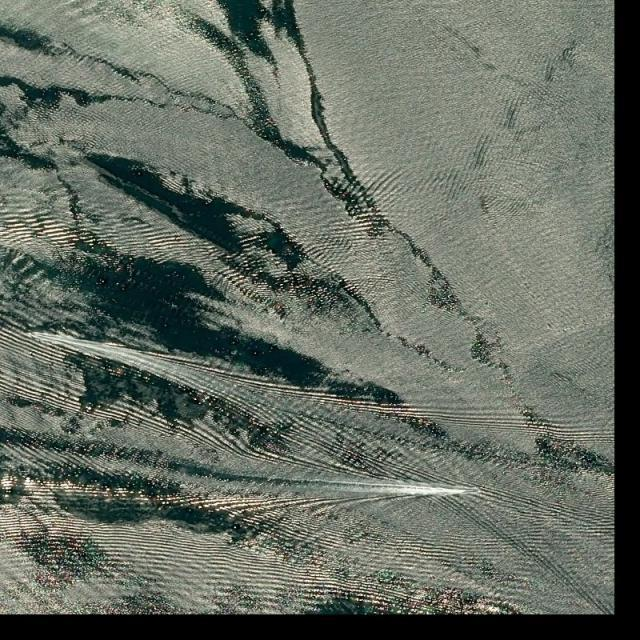ship: (26, 332, 37, 336), (472, 490, 481, 493)
